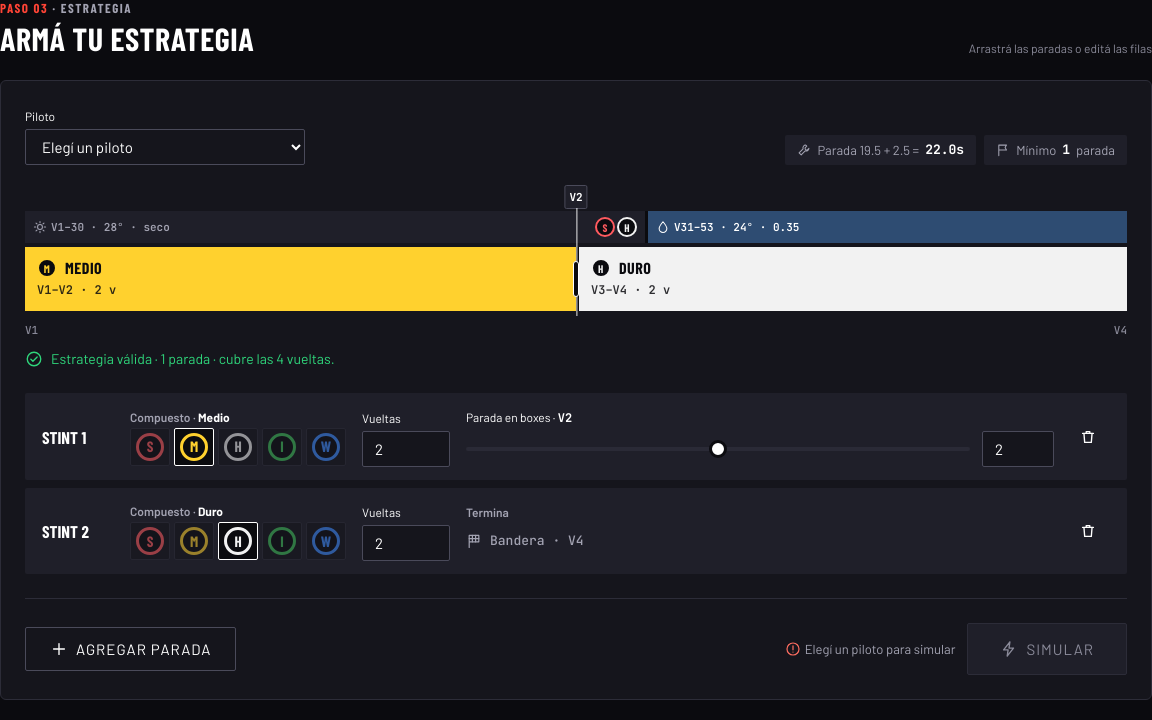
Test: StrategyStep builder › disables add stop once every stint is a single lap
Expected: the button "Simular" is shown, [968,623,1127,675]
Click the button "Agregar parada" at (131, 649), box [25,627,236,671]
(page scrolled)
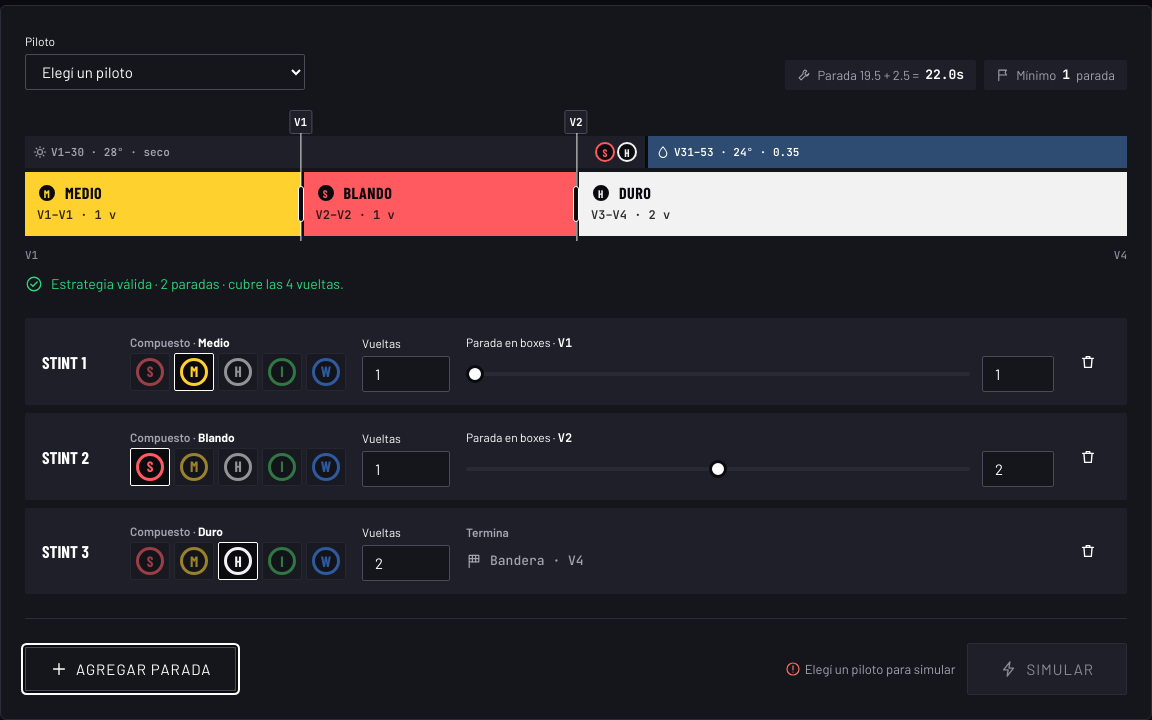
Click the button "Agregar parada" at (131, 669), box [25,647,236,691]
(page scrolled)
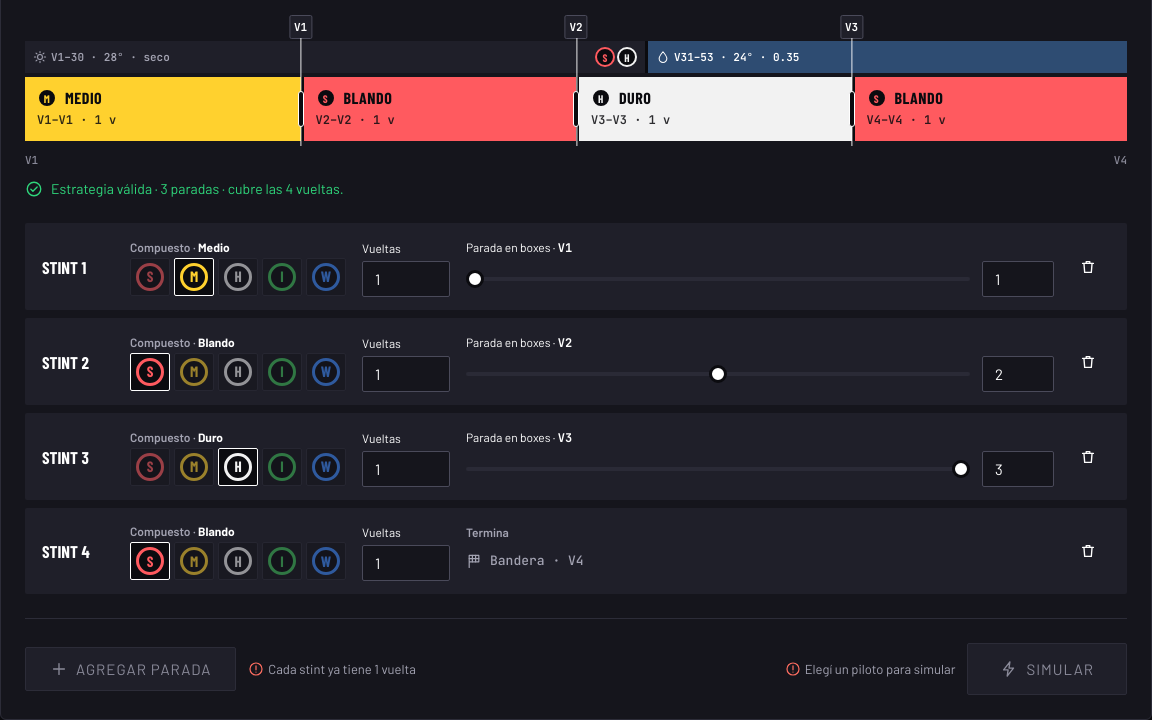
Now the button "Agregar parada" is disabled, box [25,647,236,691]
